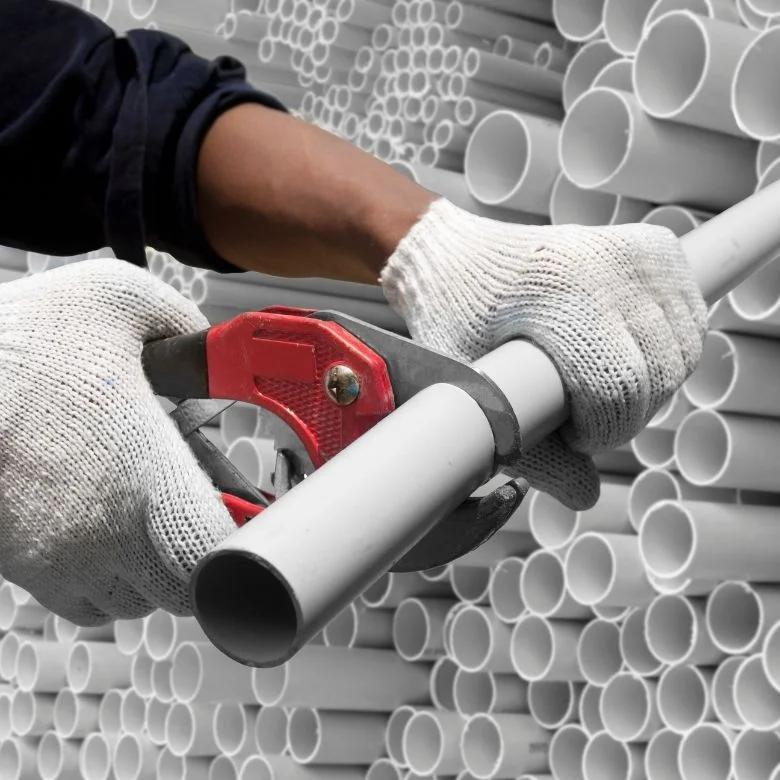PVC: (389, 497, 780, 780), (187, 383, 571, 670), (458, 0, 780, 213), (0, 617, 391, 780)
